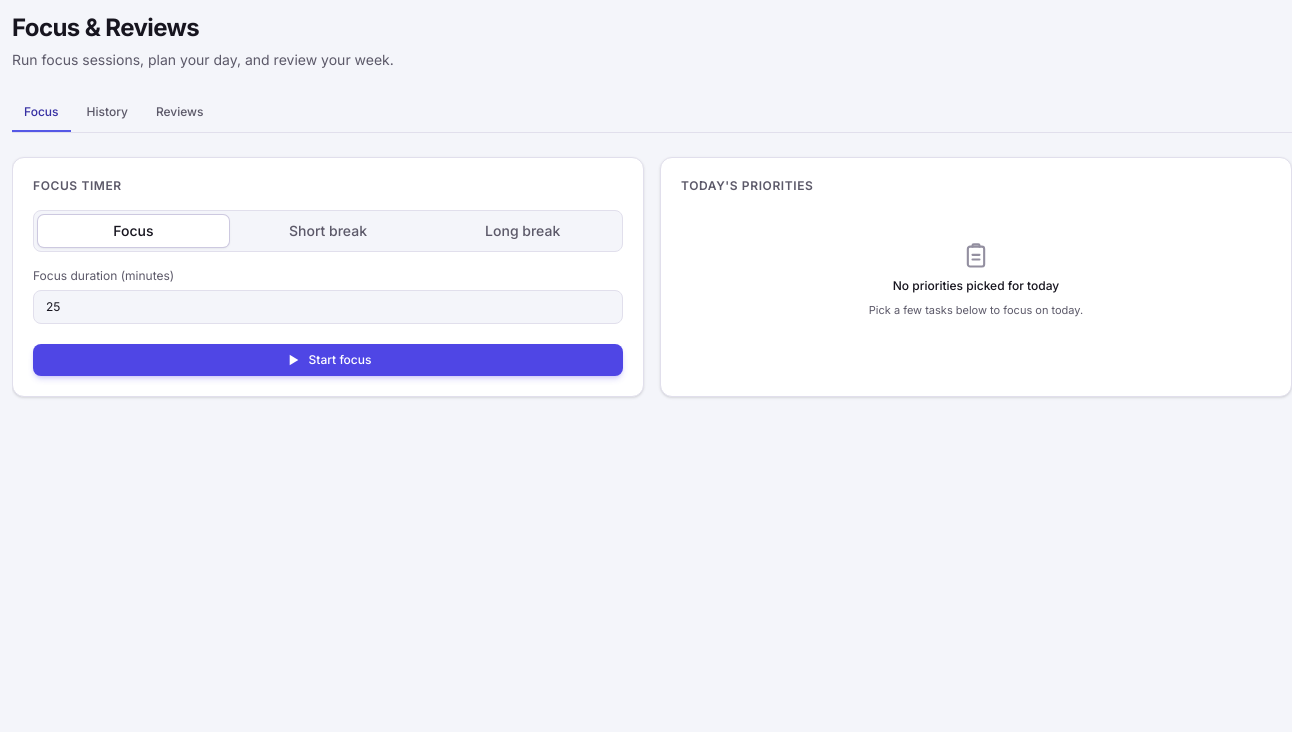
Scenario: FocusTab — timer › starts a focus session from the config form
What coordinates should you click on to do the following:
click the button "Start focus"
I would click on:
 (328, 360)
Its box is [33, 344, 623, 376].
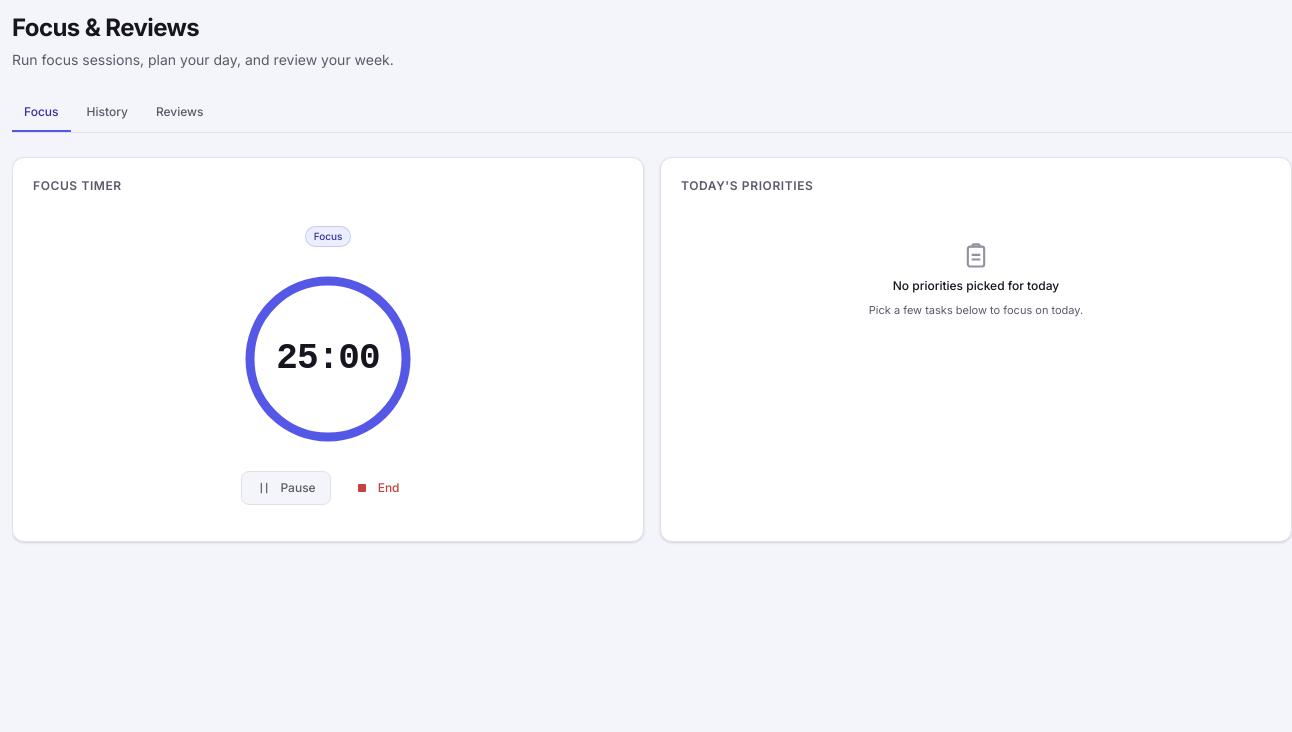
Now the text "25:00" is shown, box [276, 339, 380, 379]
Now the button "Pause" is shown, box [242, 471, 331, 505]
